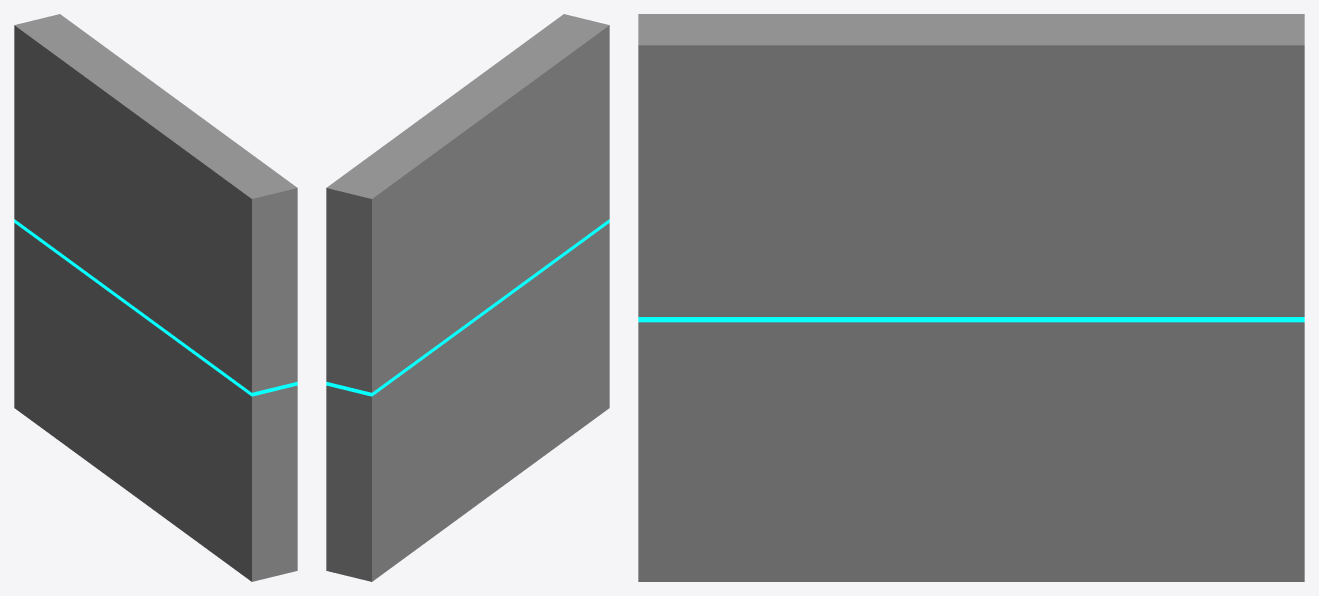
File: SM_Roof.fbx
3 views of the same model, side by side, from view 1: azimuth 30°, elevation 25°; view 2: azimuth 150°, elevation 25°; view 3: azimuth 270°, elevation 25° (orthographic). The views are drawn at different scales.
Visible parts, largest first — view 1: SM_Roof; view 2: SM_Roof; view 3: SM_Roof.
Part boxes in pixels (x1,y1,x2,y2): SM_Roof: [14, 14, 297, 581]; SM_Roof: [326, 14, 609, 581]; SM_Roof: [638, 14, 1304, 581].
Bounding box in the file's own units: 100 × 800 × 900.
